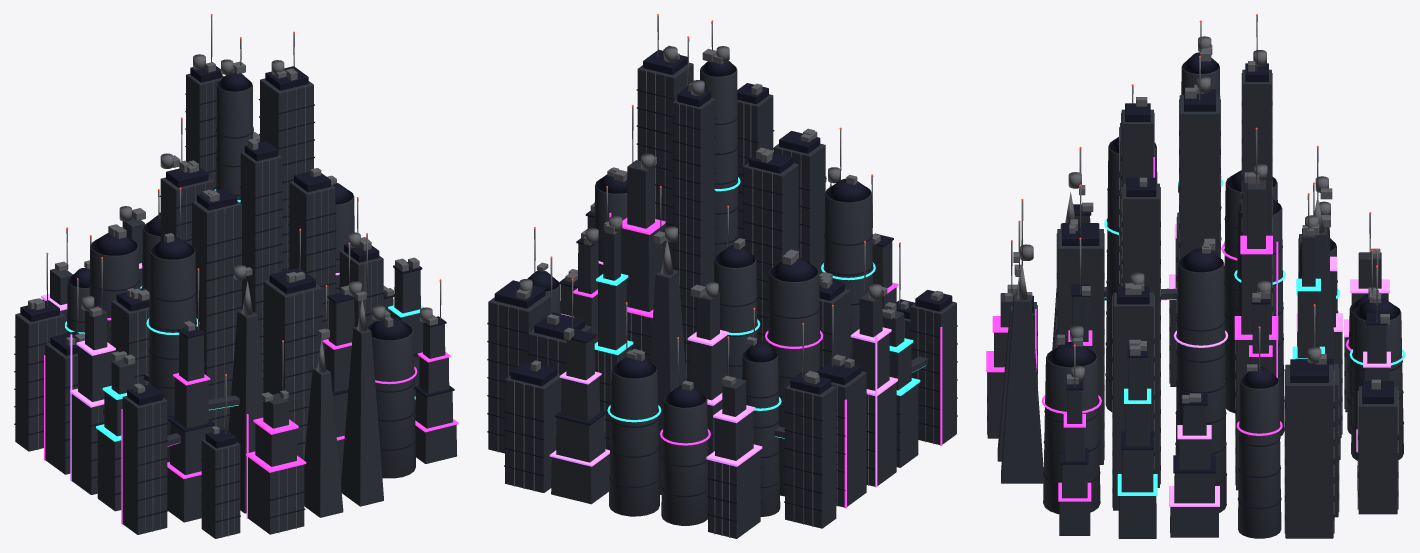
File: city-realistic.glb
The picture shows the model from 3 angles, left to right: view 1: azimuth 30°, elevation 25°; view 2: azimuth 150°, elevation 25°; view 3: azimuth 270°, elevation 25°; orthographic projection. The views are drawn at different scales.
Parts seen in each view (by area): view 1: City.001; view 2: City.001; view 3: City.001.
Part boxes in pixels (bbox=[...]): City.001: bbox=[14, 14, 458, 538]; City.001: bbox=[487, 14, 957, 538]; City.001: bbox=[986, 14, 1405, 538].
Bounding box in the file's own units: 16.68 × 20.08 × 17.25.
